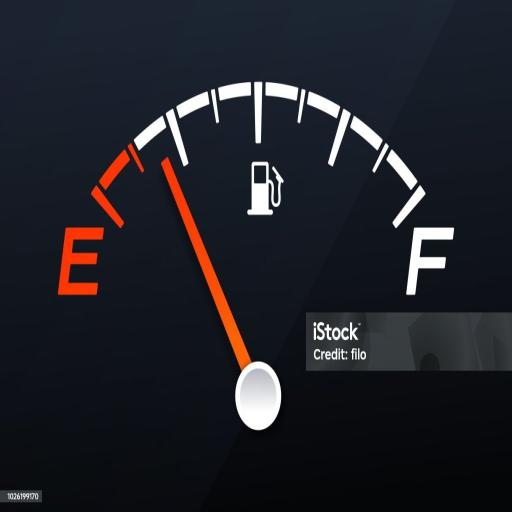empty: (57, 221, 106, 300)
fuel_icon: (246, 156, 284, 218)
full: (404, 224, 456, 296)
guage_area: (55, 78, 460, 442)
needle_center: (234, 354, 283, 433)
needle_tip: (155, 153, 179, 195)
